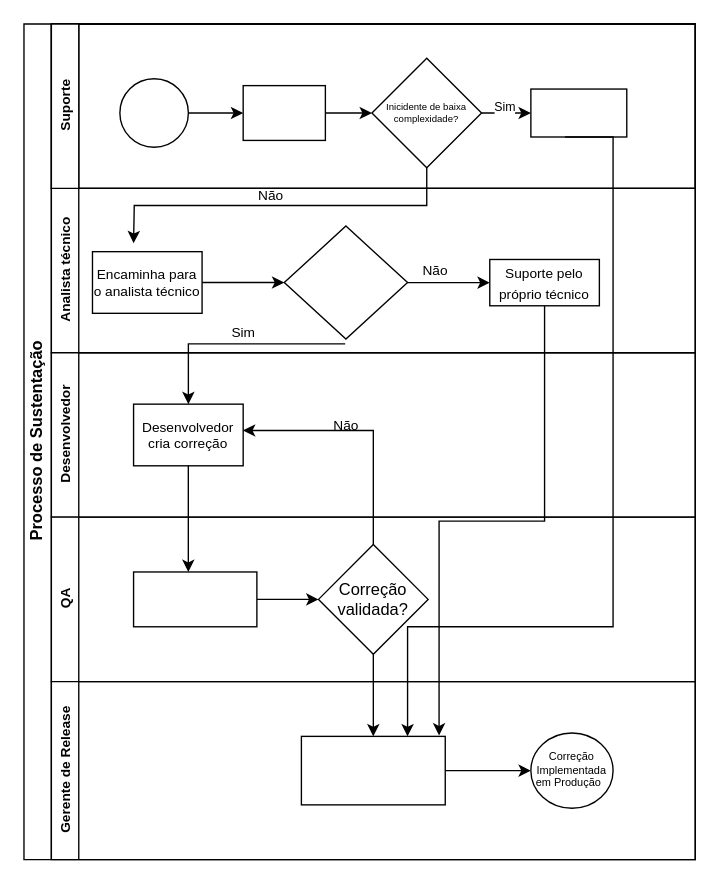
The diagram is 719 pixels wide and 884 high, and some of its shapes have lost their labels. Here are the shapes that lost their labels. From the top down, the centre of each, then its label:
point (153, 112): Incidente iniciado
point (283, 112): Avaliação inicial pelo suporte
point (578, 112): Correção rápida
point (345, 282): Necessidade de Intervenção de Desenvolvimento?
point (194, 599): QA valida correção
point (372, 770): Gerente de Release Coordena o Deployment
